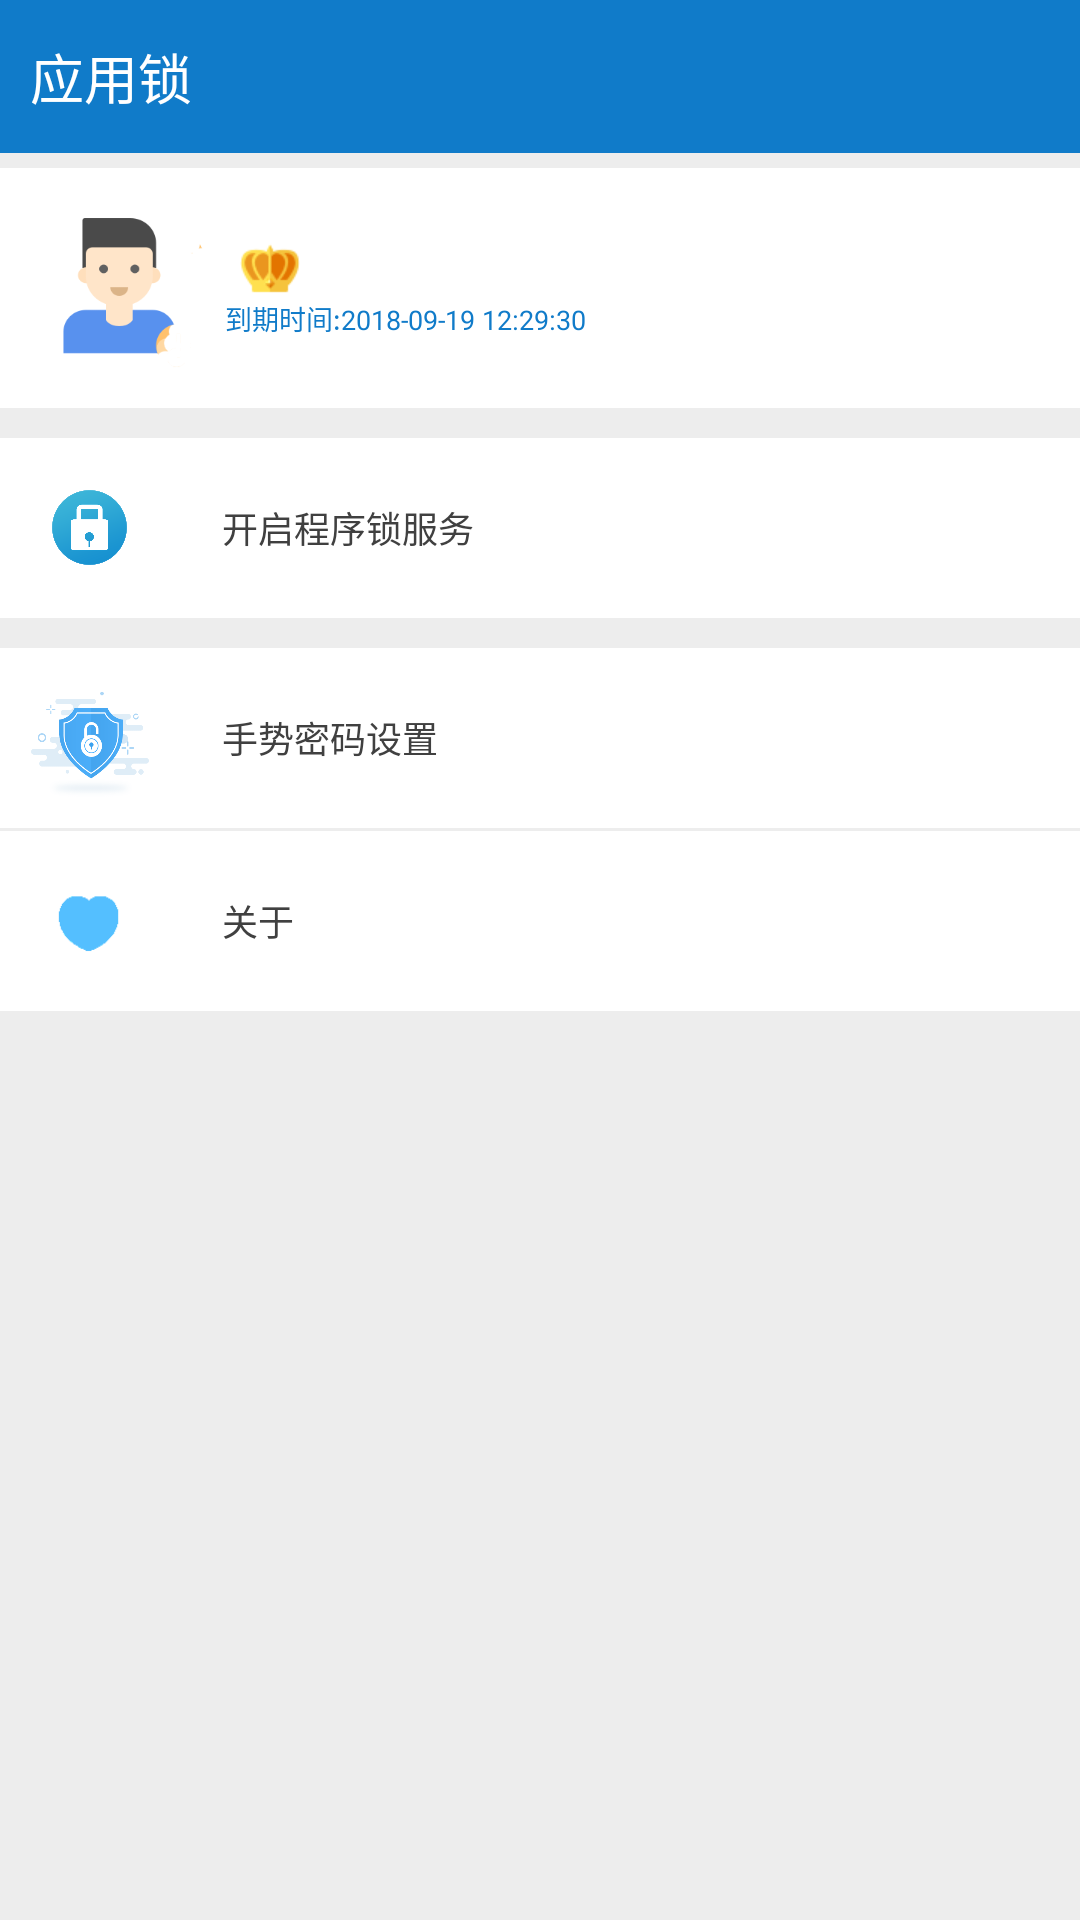

Icon click points for this 1080 x 1920 phone screenshot, format [x,y]:
dunpai: [90,735]
golden crown: [270,269]
